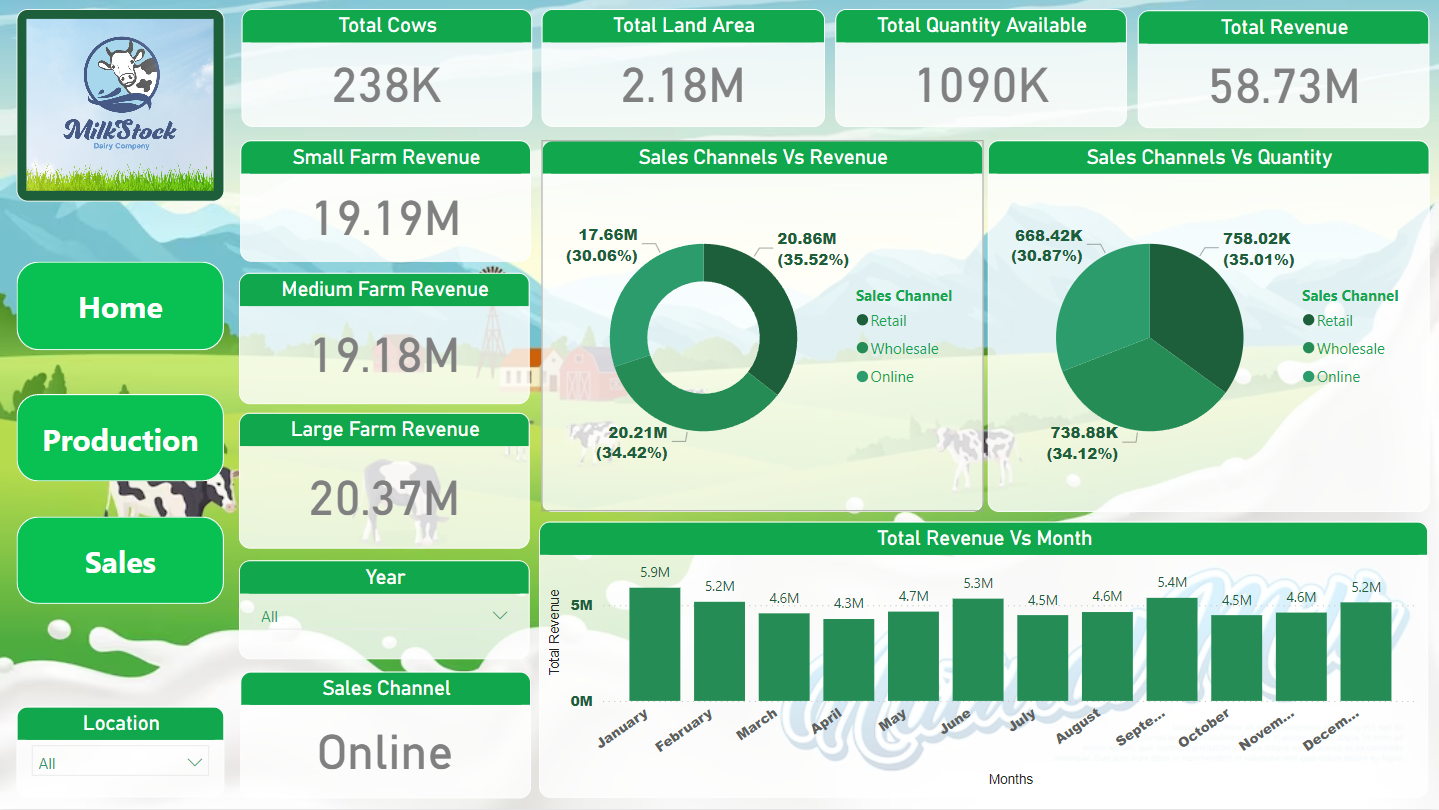

This screenshot's page, from the dashboard's own definition file:
{"tool":"powerbi","page":{"name":"Home","canvas":[1280,720],"ordinal":0},"visuals":[{"type":"card","title":"Total Cows","fields":{"Values":["Sum(dairy_goods.Number of Cows)"]},"box":[215,8.9,258,105],"z":0},{"type":"shape","box":[15.6,233.3,184.4,78.9],"z":1000},{"type":"shape","box":[15.6,351.1,184.4,77.8],"z":2000},{"type":"shape","box":[15.6,460,184.4,77.8],"z":3000},{"type":"image","box":[15.6,8.9,184.4,171.1],"z":4000},{"type":"card","title":"Total Land Area","fields":{"Values":["Sum(dairy_goods.Total Land Area (acres))"]},"box":[481.9,8.9,251.7,105],"z":5000},{"type":"card","title":"Total Quantity Available","fields":{"Values":["Sum(dairy_goods.Quantity in Stock (liters/kg))"]},"box":[743.7,8.9,259.3,105],"z":6000},{"type":"card","title":"Total Revenue","fields":{"Values":["Sum(dairy_goods.Approx. Total Revenue(INR))"]},"box":[1011.9,10.1,259.3,105],"z":7000},{"type":"card","title":"Small Farm Revenue","fields":{"Values":["dairy_goods.SmallFarmRevenue"]},"box":[215,125.5,258.3,108.2],"z":8000},{"type":"card","title":"Medium Farm Revenue","fields":{"Values":["dairy_goods.MediumFarmRevenue"]},"box":[213.5,243.8,258.3,116.9],"z":9000},{"type":"card","title":"Large Farm Revenue","fields":{"Values":["dairy_goods.LargeFarmRevenue"]},"box":[213.5,367.9,258.3,121.2],"z":10000},{"type":"donutChart","title":"Sales Channels Vs Revenue","fields":{"Category":["dairy_goods.Sales Channel"],"Y":["Sum(dairy_goods.Approx. Total Revenue(INR))"]},"box":[481.9,125.5,392.4,330.4],"z":11000},{"type":"slicer","title":"Year","fields":{"Values":["dairy_goods.Year"]},"box":[213.5,499.2,258.3,88],"z":12000},{"type":"card","title":"Sales Channel","fields":{"Values":["Min(dairy_goods.Sales Channel)"]},"box":[215,597.3,258.3,112.5],"z":13000},{"type":"pieChart","title":"Sales Channels Vs Quantity","fields":{"Category":["dairy_goods.Sales Channel"],"Y":["Sum(dairy_goods.Quantity (liters/kg))"]},"box":[878.6,125.5,392.4,330.4],"z":14000},{"type":"columnChart","title":"Total Revenue Vs Month","fields":{"Y":["Sum(dairy_goods.Approx. Total Revenue(INR))"],"Category":["dairy_goods.Month Name"]},"box":[480.4,464.6,790.6,245.3],"z":15000},{"type":"slicer","title":"Location","fields":{"Values":["dairy_goods.Location"]},"box":[15.9,629,184.7,80.8],"z":16000}]}

Visuals, with their boxes in screenshot pixels (x1, y1, x2, y2), scaled from the page's 1280x720 canvas onto the 1439x810 screenshot:
"Total Cows" card: box=[242, 10, 532, 128]
shape: box=[18, 262, 225, 351]
shape: box=[18, 395, 225, 483]
shape: box=[18, 518, 225, 605]
image: box=[18, 10, 225, 202]
"Total Land Area" card: box=[542, 10, 825, 128]
"Total Quantity Available" card: box=[836, 10, 1128, 128]
"Total Revenue" card: box=[1138, 11, 1429, 129]
"Small Farm Revenue" card: box=[242, 141, 532, 263]
"Medium Farm Revenue" card: box=[240, 274, 530, 406]
"Large Farm Revenue" card: box=[240, 414, 530, 550]
"Sales Channels Vs Revenue" donutChart: box=[542, 141, 983, 513]
"Year" slicer: box=[240, 562, 530, 661]
"Sales Channel" card: box=[242, 672, 532, 799]
"Sales Channels Vs Quantity" pieChart: box=[988, 141, 1429, 513]
"Total Revenue Vs Month" columnChart: box=[540, 523, 1429, 799]
"Location" slicer: box=[18, 708, 226, 799]
